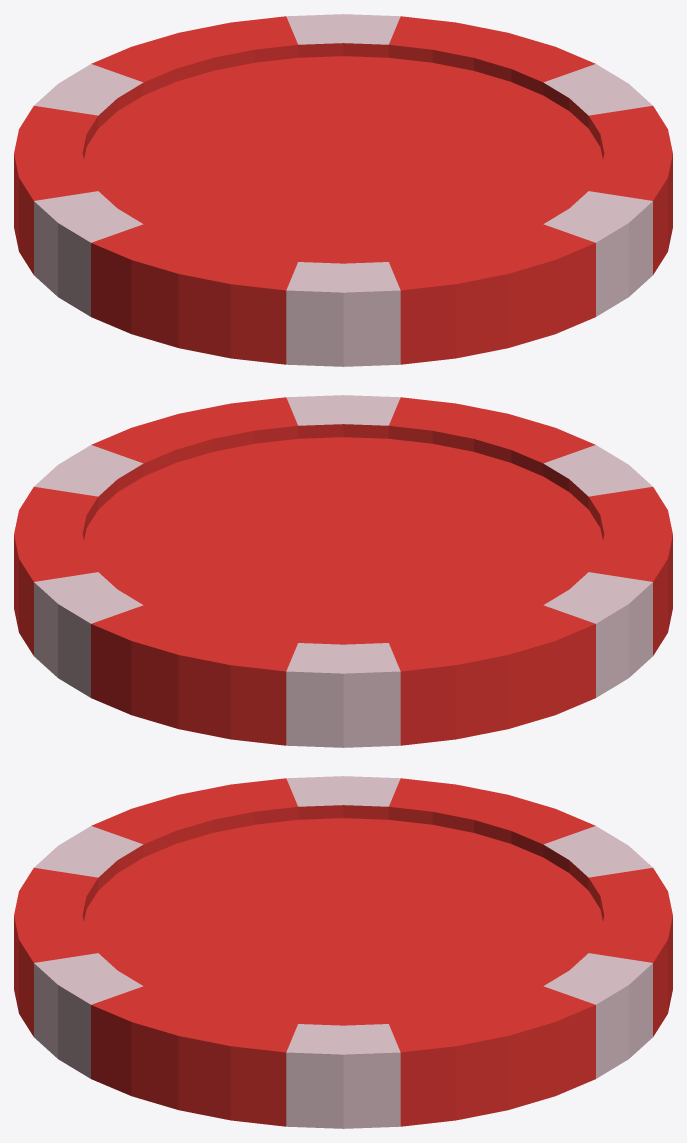
The model's file is Chip_Red.fbx.
3 views of the same model, one above another, from view 1: azimuth 30°, elevation 25°; view 2: azimuth 150°, elevation 25°; view 3: azimuth 270°, elevation 25° (orthographic).
Visible parts, largest first — view 1: Cylinder; view 2: Cylinder; view 3: Cylinder.
Boxes of the visible parts, x1,y1,x2,y2 form: Cylinder: (14,14,672,366); Cylinder: (14,395,672,747); Cylinder: (14,776,672,1128).
Size of the model in its own units: 8.87 by 1.1 by 8.87.
